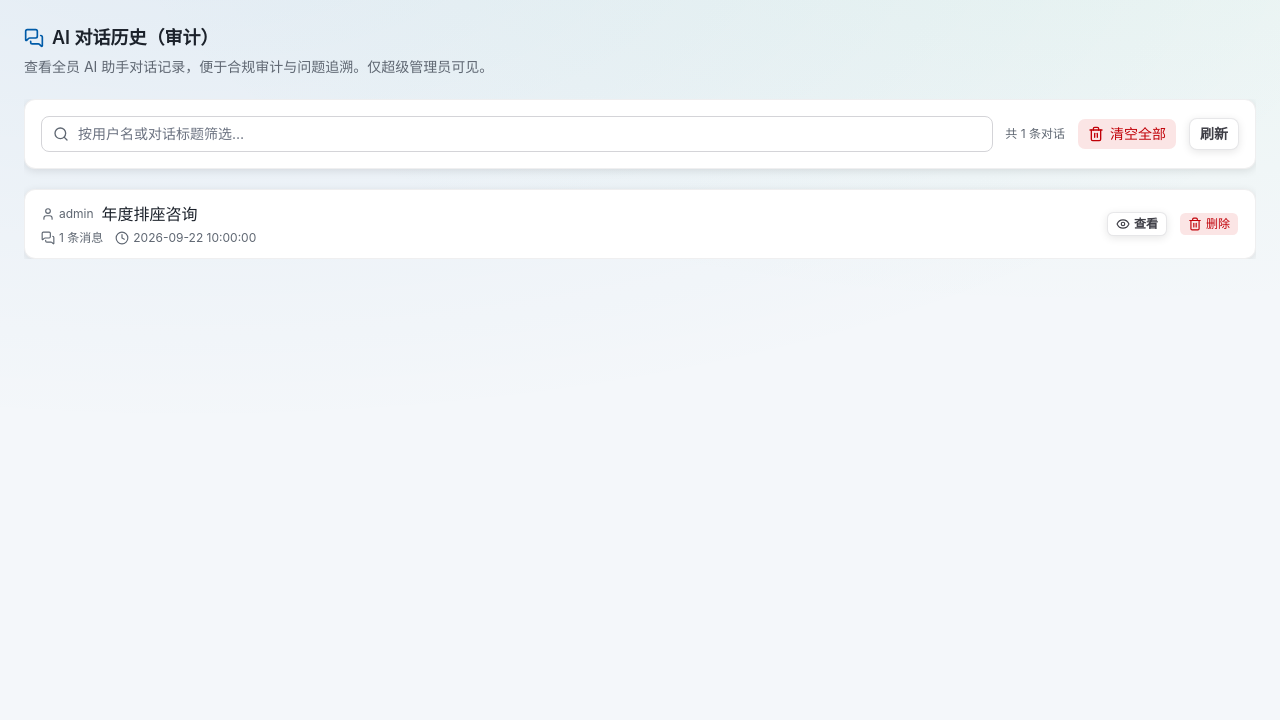
Scenario: AI 会话记录详情抽屉 › 打开后是有语义的对话框，Esc 能关闭
The width and height of the screenshot is (1280, 720).
Expected: the text "年度排座咨询" is shown, [102, 202, 198, 226]
Click the button titled "查看详情" at (1137, 224), box [1107, 212, 1167, 236]
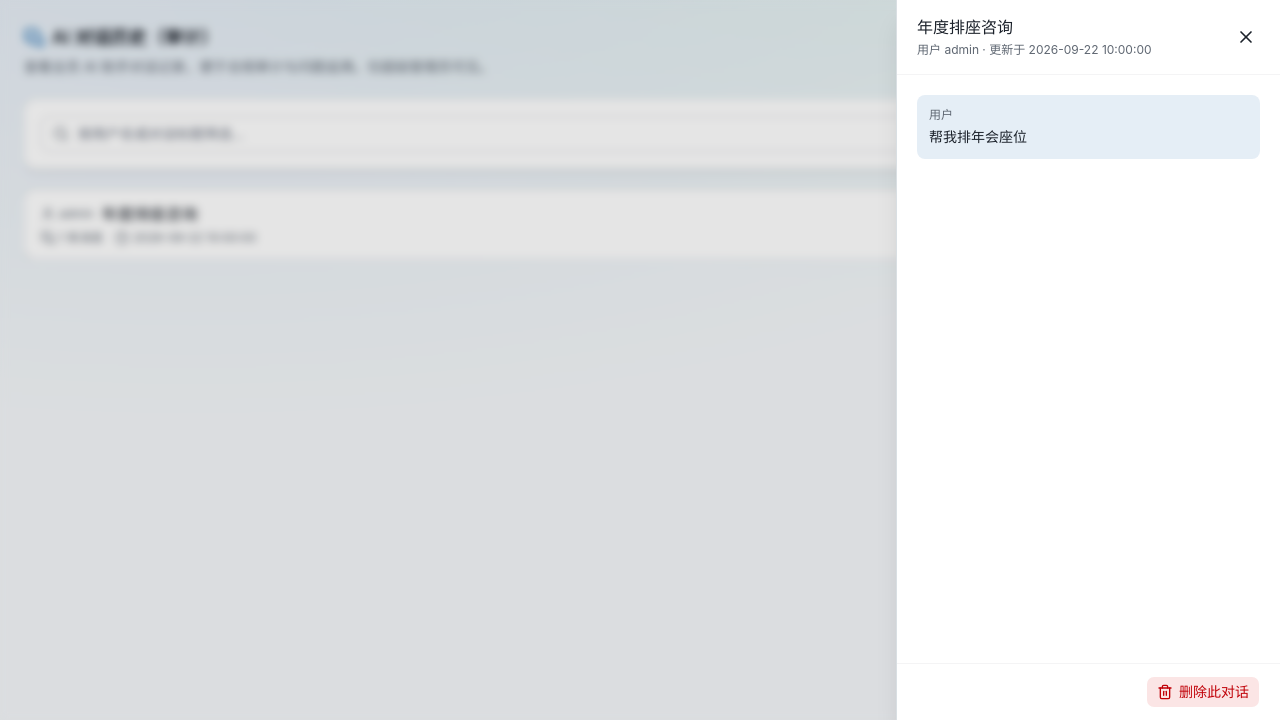
Expected: the dialog is shown, [896, 0, 1279, 719]
Expected: the dialog shows "帮我排年会座位", [929, 128, 1027, 145]
Press Escape
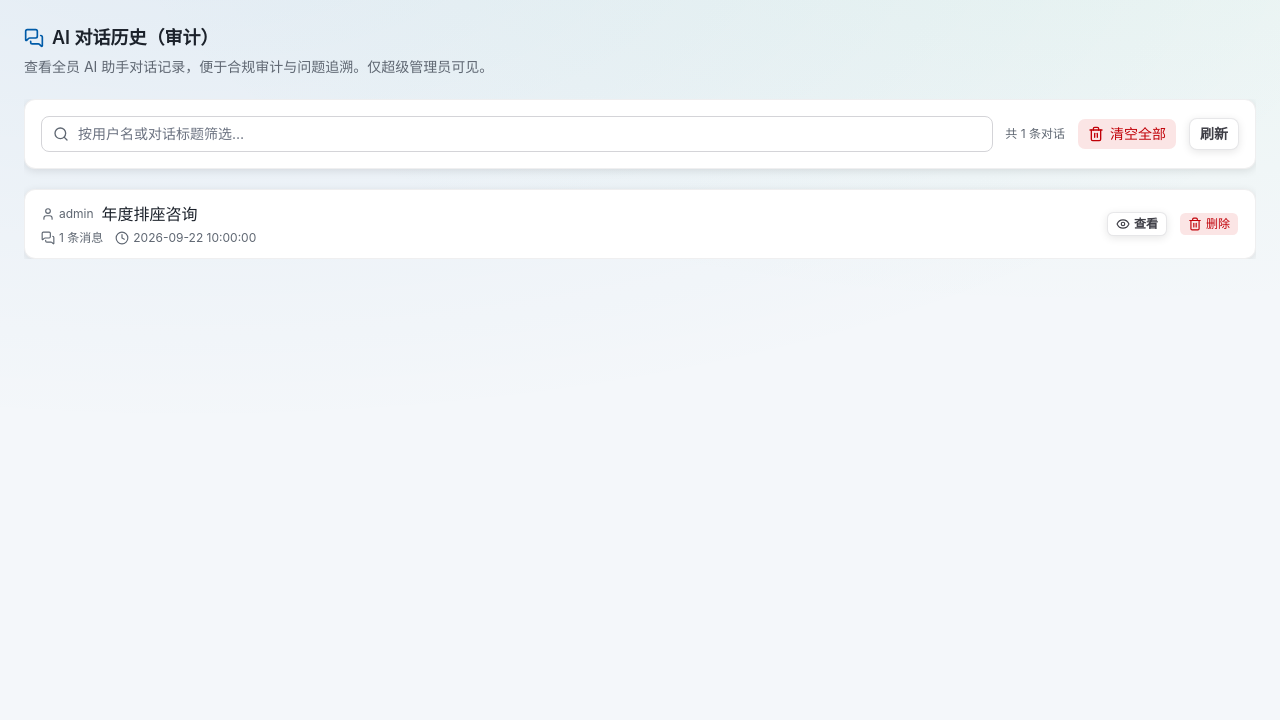
Expected: the dialog is gone
